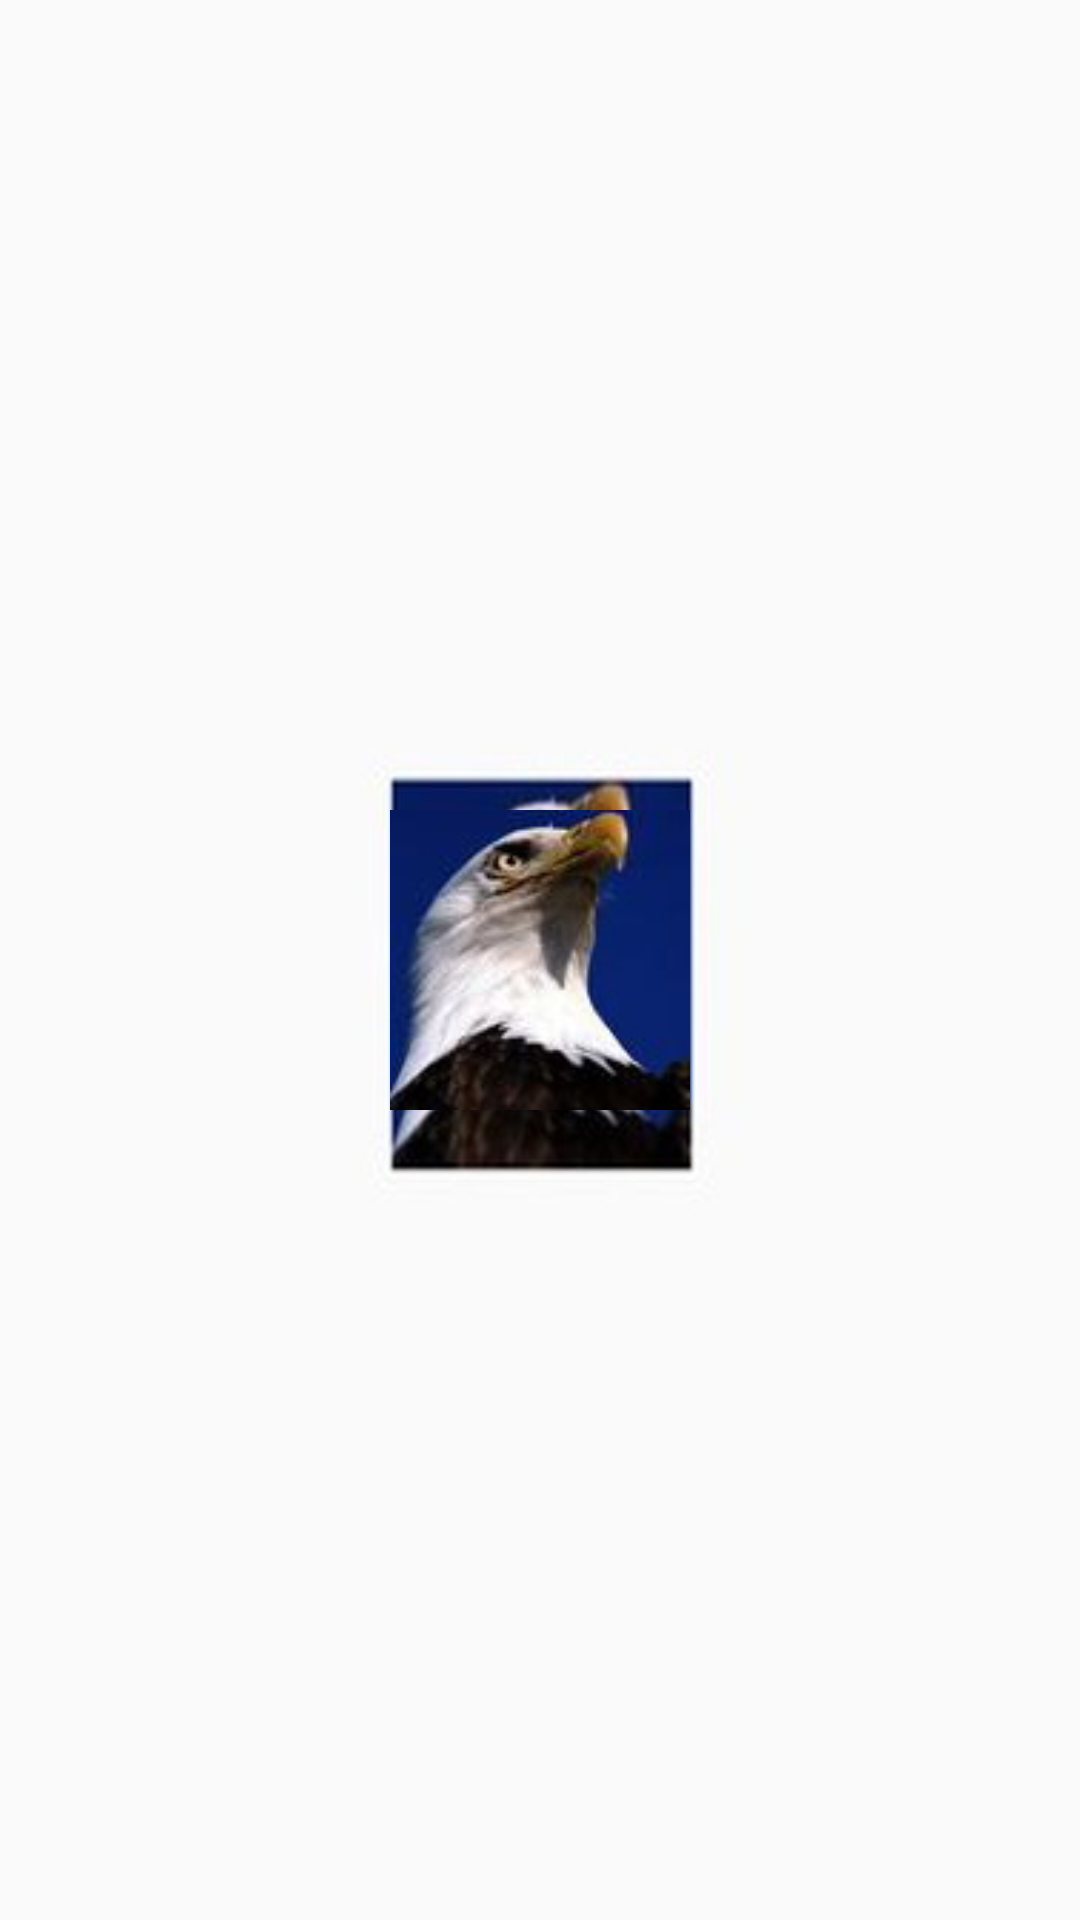

Point at icon controls on the screen. Image size 1080px×1920px, points as point (x, y).
eagle: point (540, 960)
